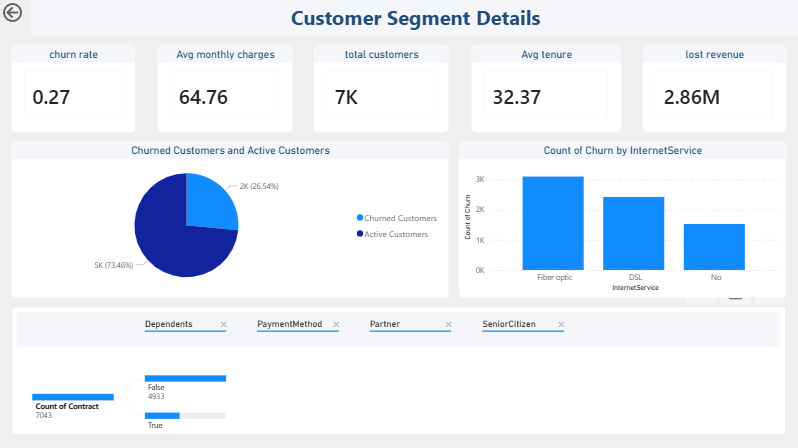

This screenshot's page, from the dashboard's own definition file:
{"tool":"powerbi","page":{"name":"Customer Segment Details","canvas":[1280,720],"ordinal":3},"visuals":[{"type":"actionButton","box":[0,0,100,40],"z":0},{"type":"cardVisual","title":"churn rate","fields":{"Data":["Table.Churn Rate"]},"box":[18,72,198,140],"z":1000},{"type":"cardVisual","title":"Avg monthly charges","fields":{"Data":["Table.Avg Monthly Charges"]},"box":[251,72,216,140],"z":2000},{"type":"cardVisual","title":"Avg tenure","fields":{"Data":["Table.Avg Tenure"]},"box":[753,72,240,140],"z":3000},{"type":"cardVisual","title":"lost revenue","fields":{"Data":["Table.Lost Revenue"]},"box":[1028,72,230,140],"z":5000},{"type":"pieChart","fields":{"Y":["Table.Churned Customers","Table.Active Customers"]},"box":[18,226,700,250],"z":6000},{"type":"decompositionTreeVisual","fields":{"Analyze":["CountNonNull(churn_cleaned.Contract)"],"ExplainBy":["churn_cleaned.Dependents","churn_cleaned.PaymentMethod","churn_cleaned.Partner","churn_cleaned.SeniorCitizen"]},"box":[18,490,1240,206],"z":7000},{"type":"columnChart","fields":{"Y":["CountNonNull(churn_cleaned.Churn)"],"Category":["churn_cleaned.InternetService"]},"box":[734,226,524,250],"z":7001},{"type":"textbox","box":[50,0,1230,58],"z":7002},{"type":"cardVisual","title":"total customers","fields":{"Data":["Table.Total Customers"]},"box":[502,72,216,140],"z":7003}]}

Visuals, with their boxes in screenshot pixels (x1, y1, x2, y2), scaled from the page's 1280x720 canvas onto the 798x448 screenshot:
actionButton: 0:0:62:25
"churn rate" cardVisual: 11:45:135:132
"Avg monthly charges" cardVisual: 156:45:291:132
"Avg tenure" cardVisual: 469:45:619:132
"lost revenue" cardVisual: 641:45:784:132
pieChart - Table.Churned Customers x Table.Active Customers: 11:141:448:296
decompositionTreeVisual - CountNonNull(churn_cleaned.Contract) x churn_cleaned.Dependents: 11:305:784:433
columnChart - CountNonNull(churn_cleaned.Churn) x churn_cleaned.InternetService: 458:141:784:296
textbox: 31:0:797:36
"total customers" cardVisual: 313:45:448:132
